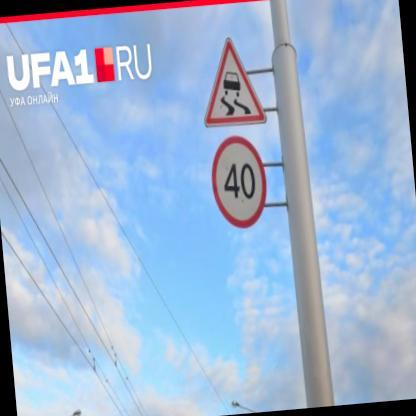road_sign: (206, 38, 265, 126), (212, 137, 266, 227)
